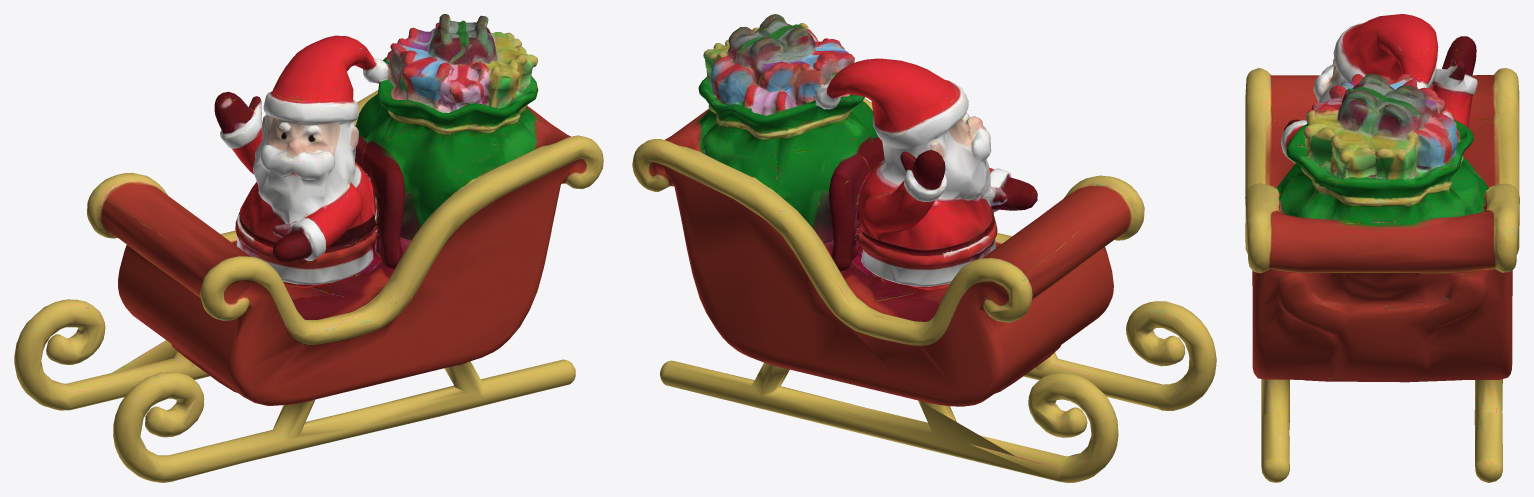
The model's file is santa-sleigh.glb.
3 renders of one model, left to right at view 1: azimuth 30°, elevation 25°; view 2: azimuth 150°, elevation 25°; view 3: azimuth 270°, elevation 25°, orthographic. The views are drawn at different scales.
Parts seen in each view (by area): view 1: Mesh_0; view 2: Mesh_0; view 3: Mesh_0.
Part boxes in pixels (x1,y1,x2,y2): Mesh_0: (14, 14, 603, 482); Mesh_0: (632, 14, 1216, 482); Mesh_0: (1245, 14, 1519, 482).
Size of the model in its own units: 1.9 by 1.29 by 0.8706.
Materials: 1 (1 with a texture image).
